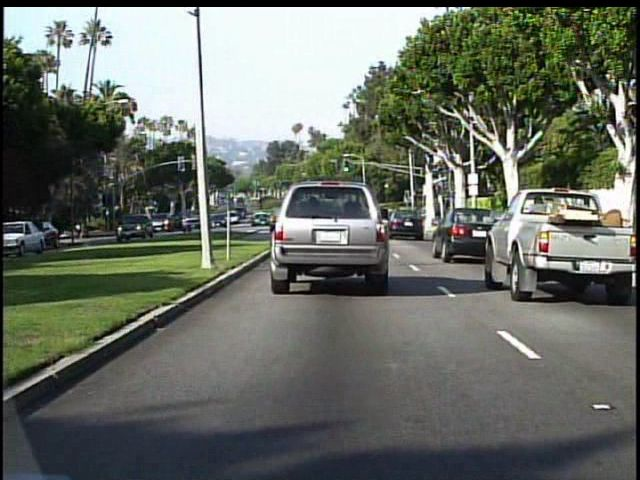person: (75, 219, 83, 240)
